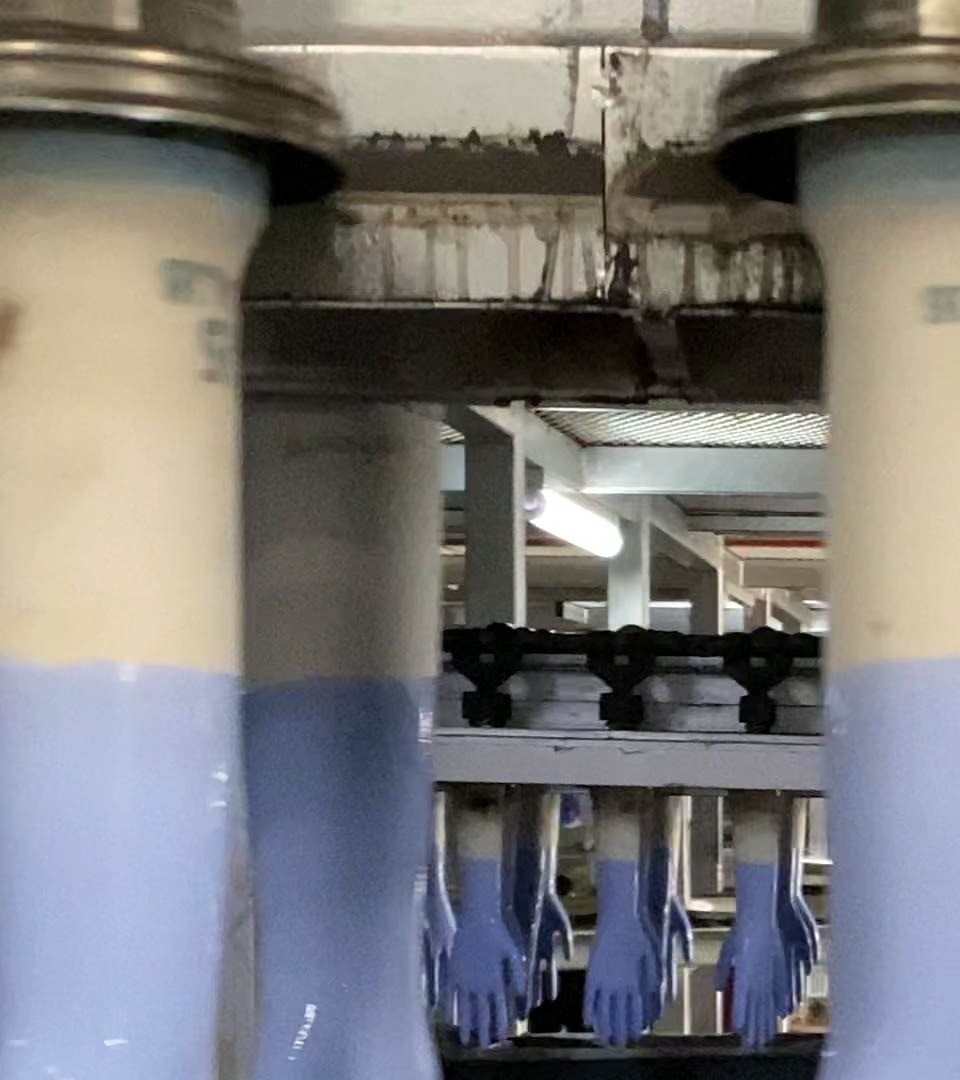glove: (578, 855, 659, 1049), (443, 855, 523, 1049), (721, 855, 789, 1049)
